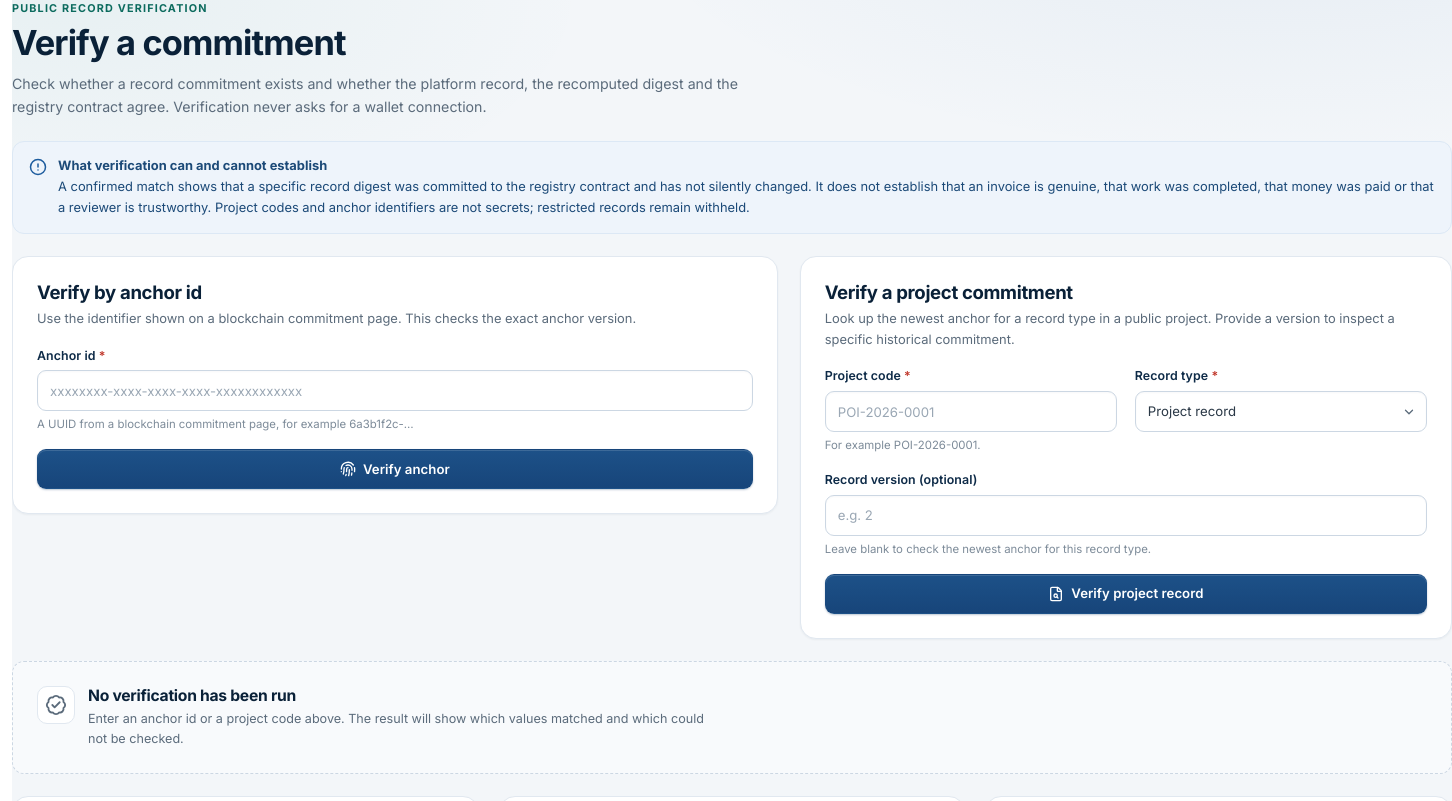
Test: VerifyPage › submits a project-code lookup and renders a match without asking for a wallet
Type "poi-2026-0001" into the field labelled "Project code *".
click(971, 412); type("poi-2026-0001")  # box [825,391,1117,432]
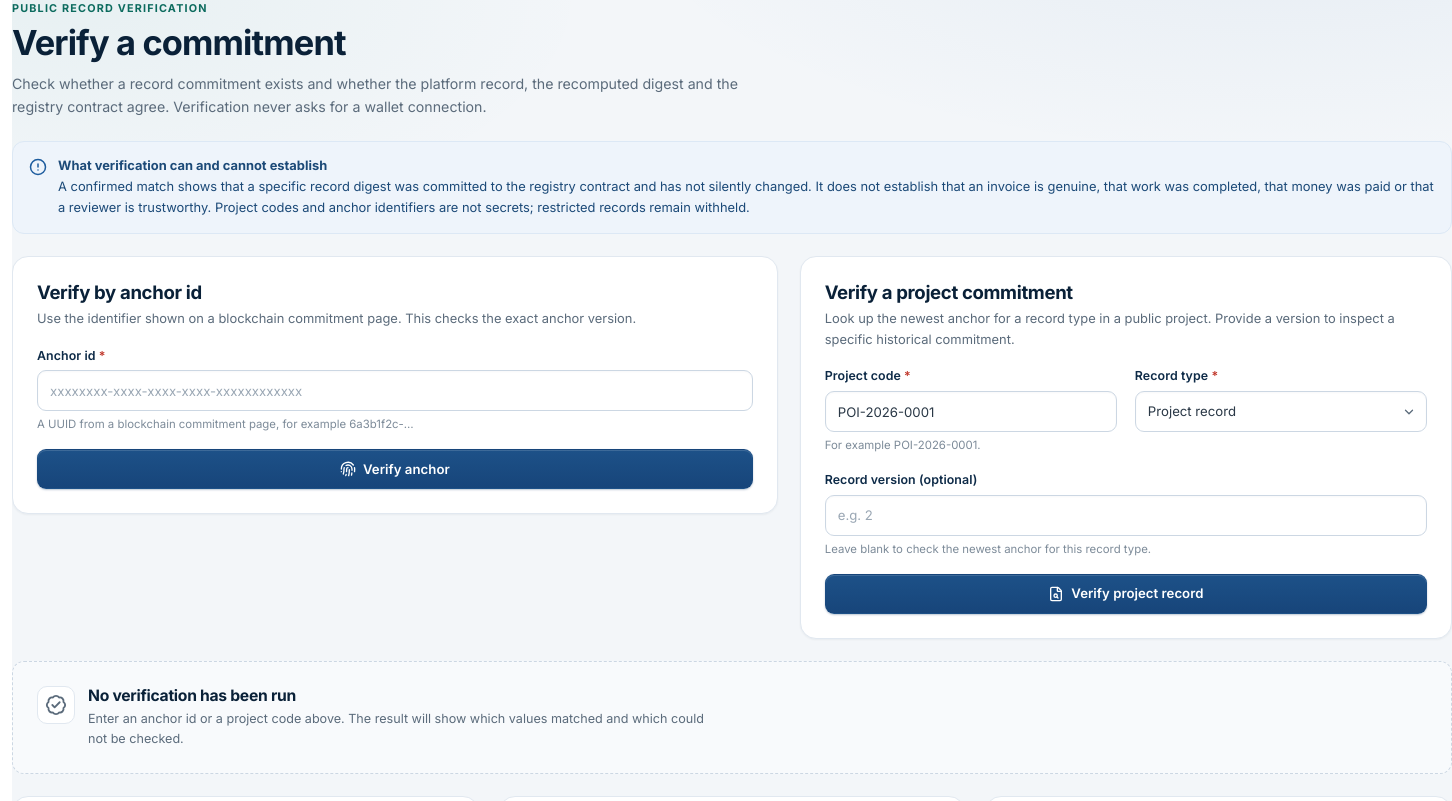
Click the button "Verify project record".
click(1126, 594)  # box [825,574,1427,614]
(page scrolled)
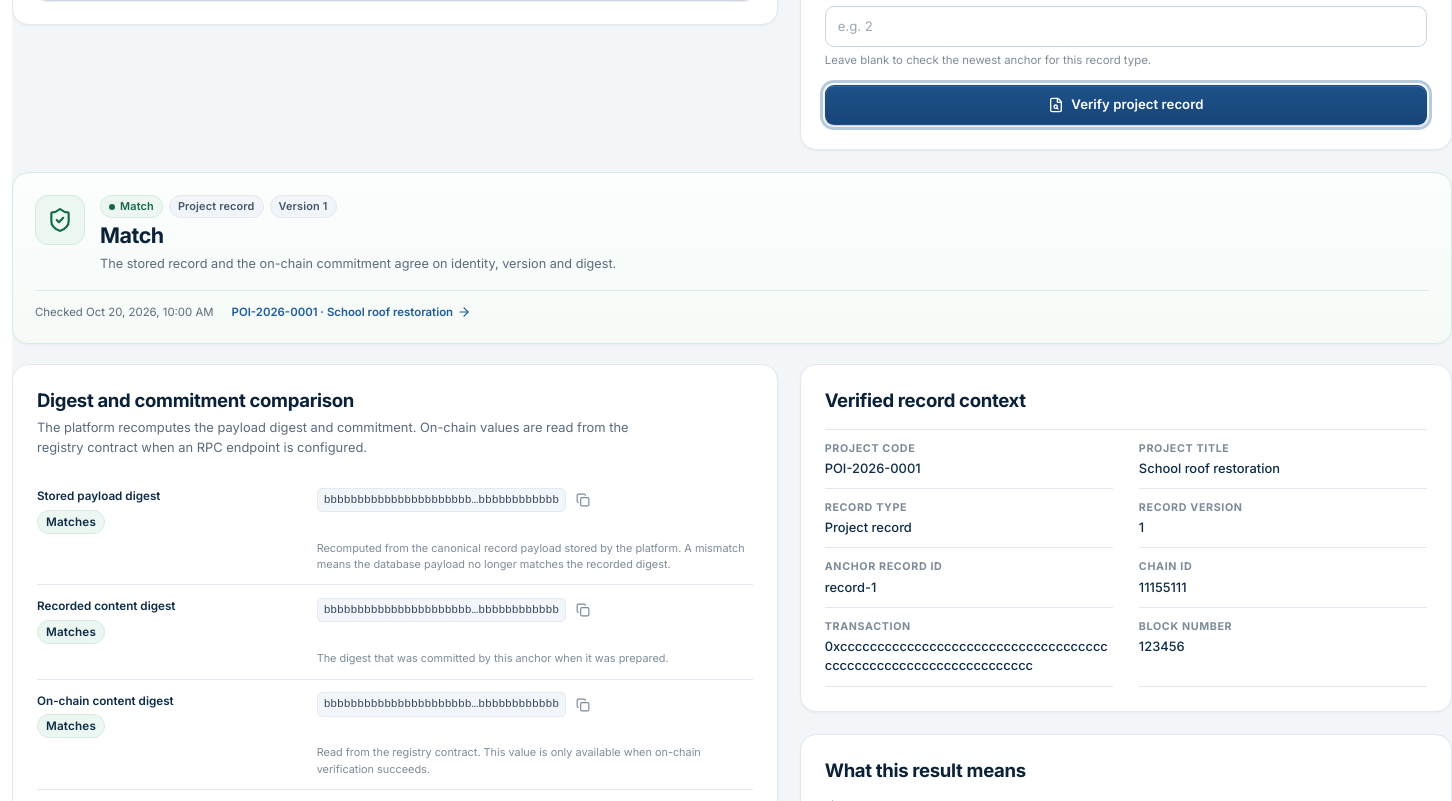
Result: the heading "Match" is shown at [100,222,164,248]
Result: the heading "Digest and commitment comparison" is shown at [37,389,354,411]
